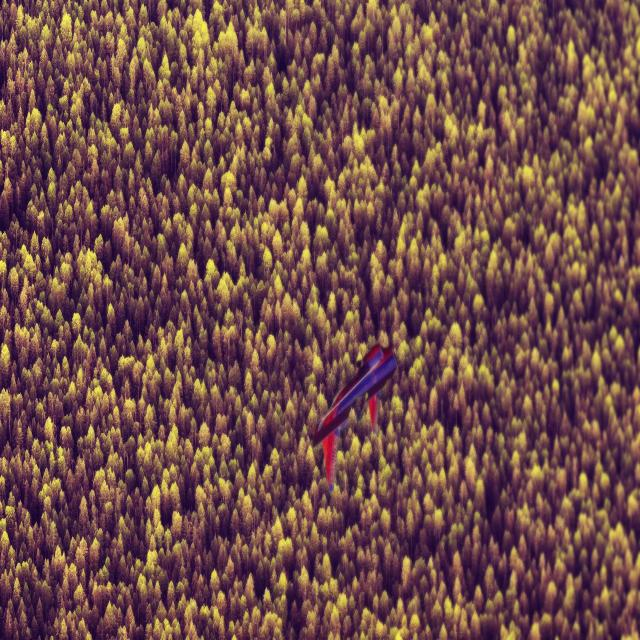airplane: (311, 342, 397, 491)
